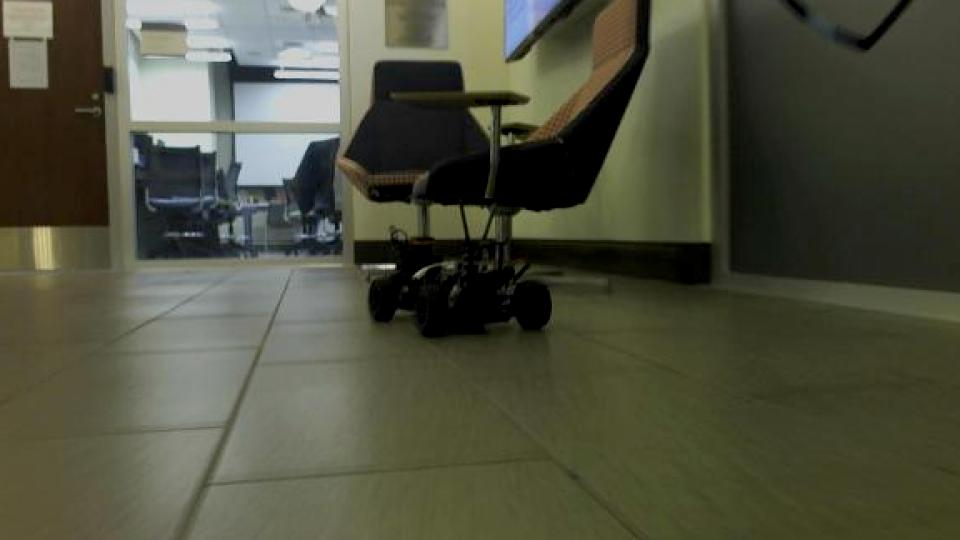car: (333, 0, 655, 340)
